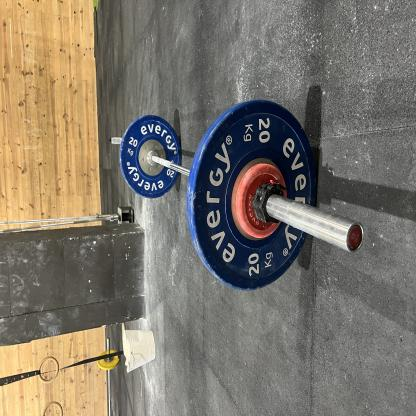barbell: (94, 249, 238, 416), (164, 160, 227, 244)
